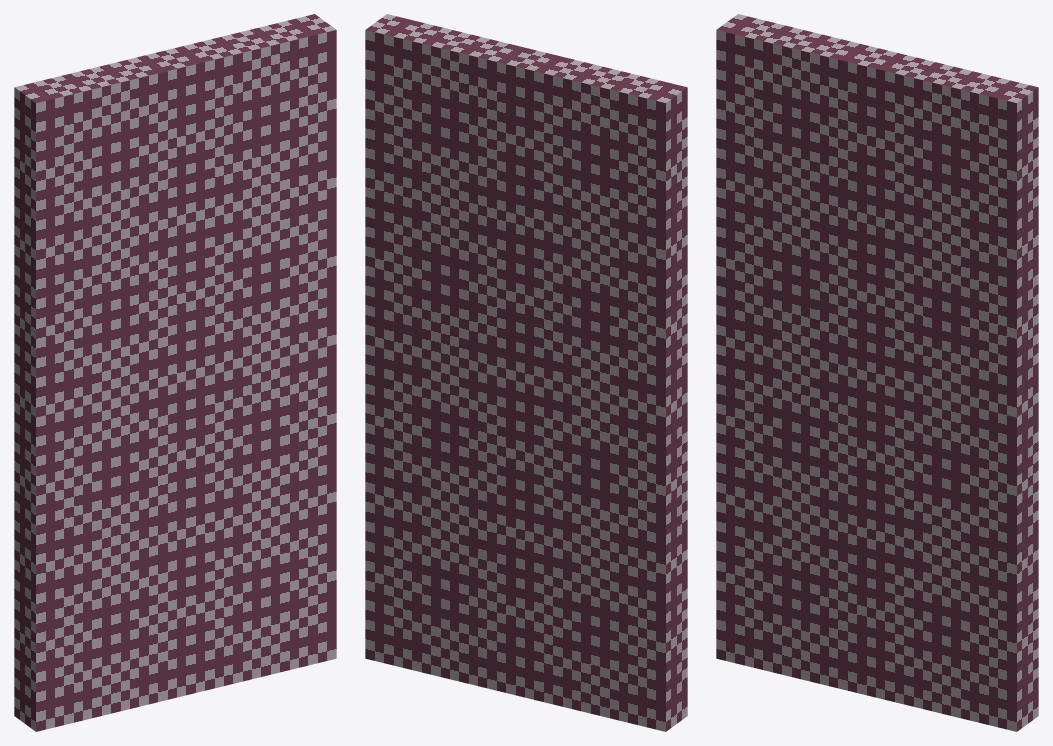
Rendered from wall_textured_b_2_col.gltf.
The picture shows the model from 3 angles, left to right: view 1: azimuth 30°, elevation 25°; view 2: azimuth 150°, elevation 25°; view 3: azimuth 330°, elevation 25°; orthographic projection.
Parts seen in each view (by area): view 1: wall_textured_b_2_col; view 2: wall_textured_b_2_col; view 3: wall_textured_b_2_col.
Part boxes in pixels (bbox=[...]): wall_textured_b_2_col: bbox=[14, 14, 336, 731]; wall_textured_b_2_col: bbox=[365, 14, 687, 731]; wall_textured_b_2_col: bbox=[716, 14, 1038, 731].
Bounding box in the file's own units: 2 × 4 × 0.25.
1 material, 1 textured.
